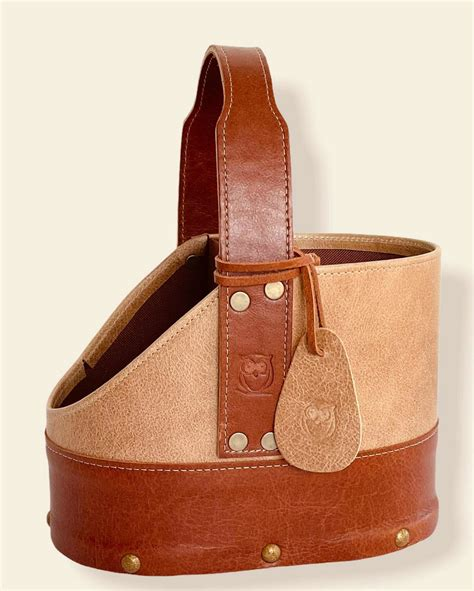cuero: (44, 41, 444, 577)
